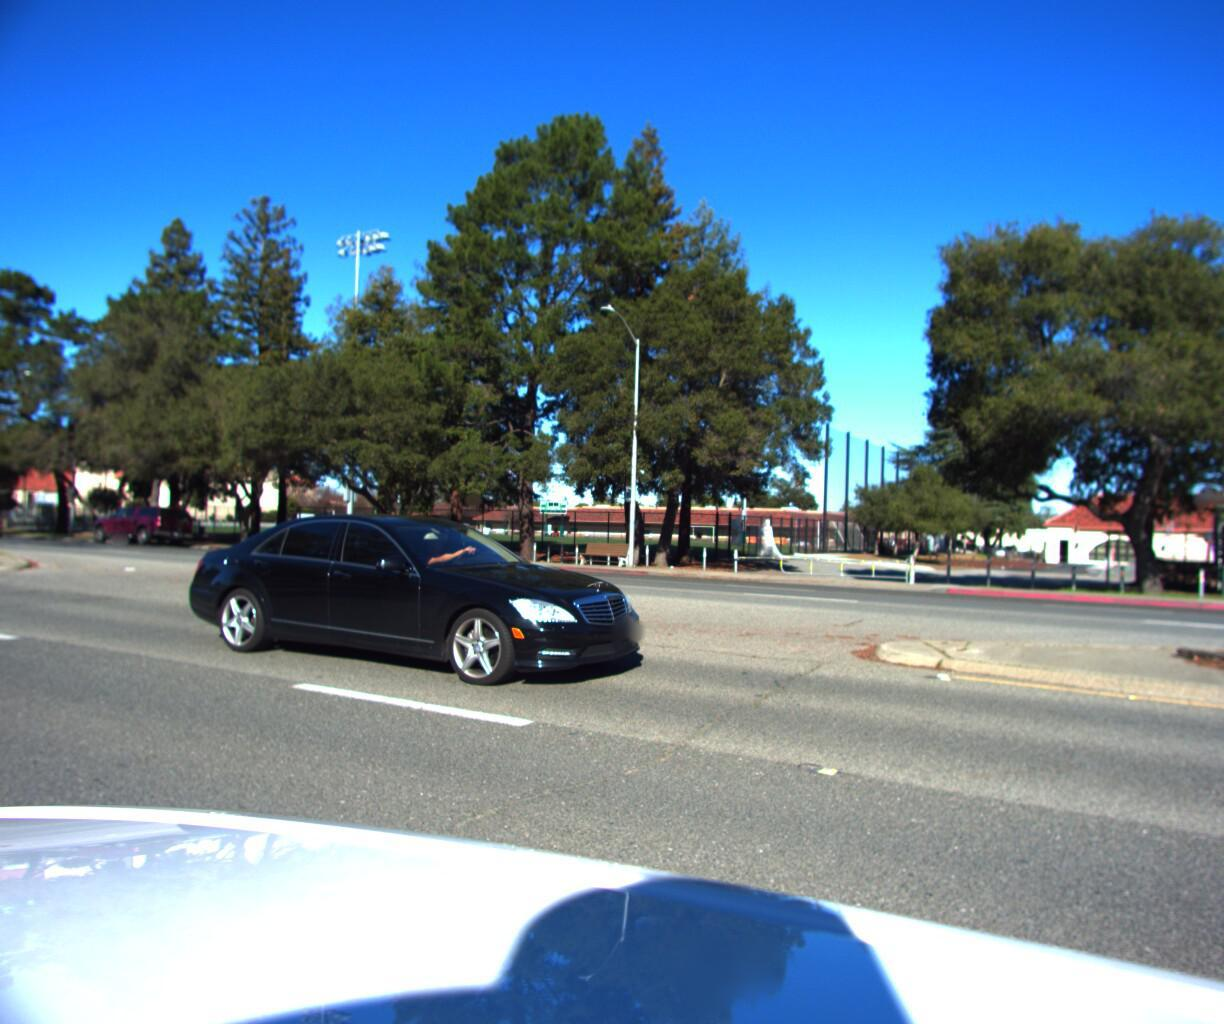car: (198, 500, 667, 701), (88, 508, 198, 552), (0, 508, 12, 545)
